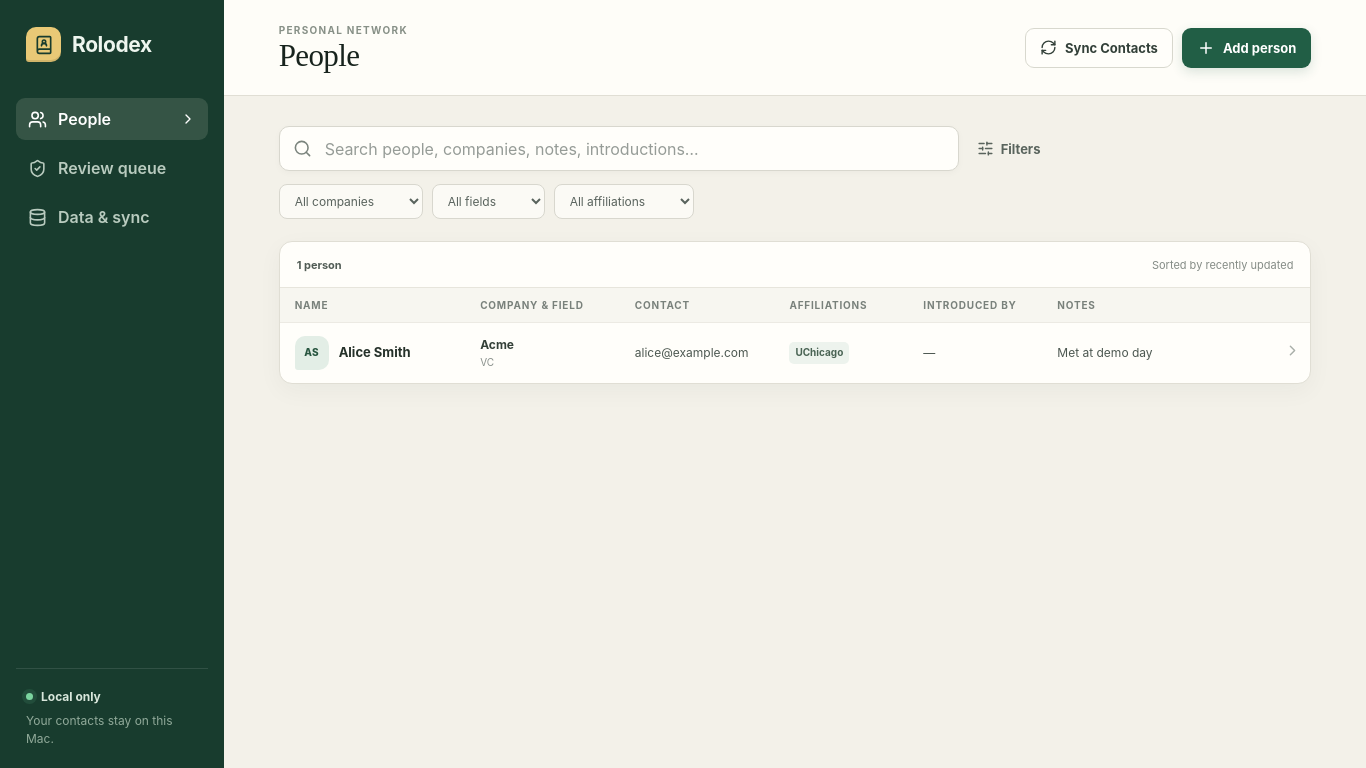
Test: App › renders the people workspace and loaded contacts
Expected: the heading "People" is shown, x1=279 y1=38 x2=359 y2=73
Click the text "Alice Smith": point(375, 353) x1=339 y1=344 x2=411 y2=362
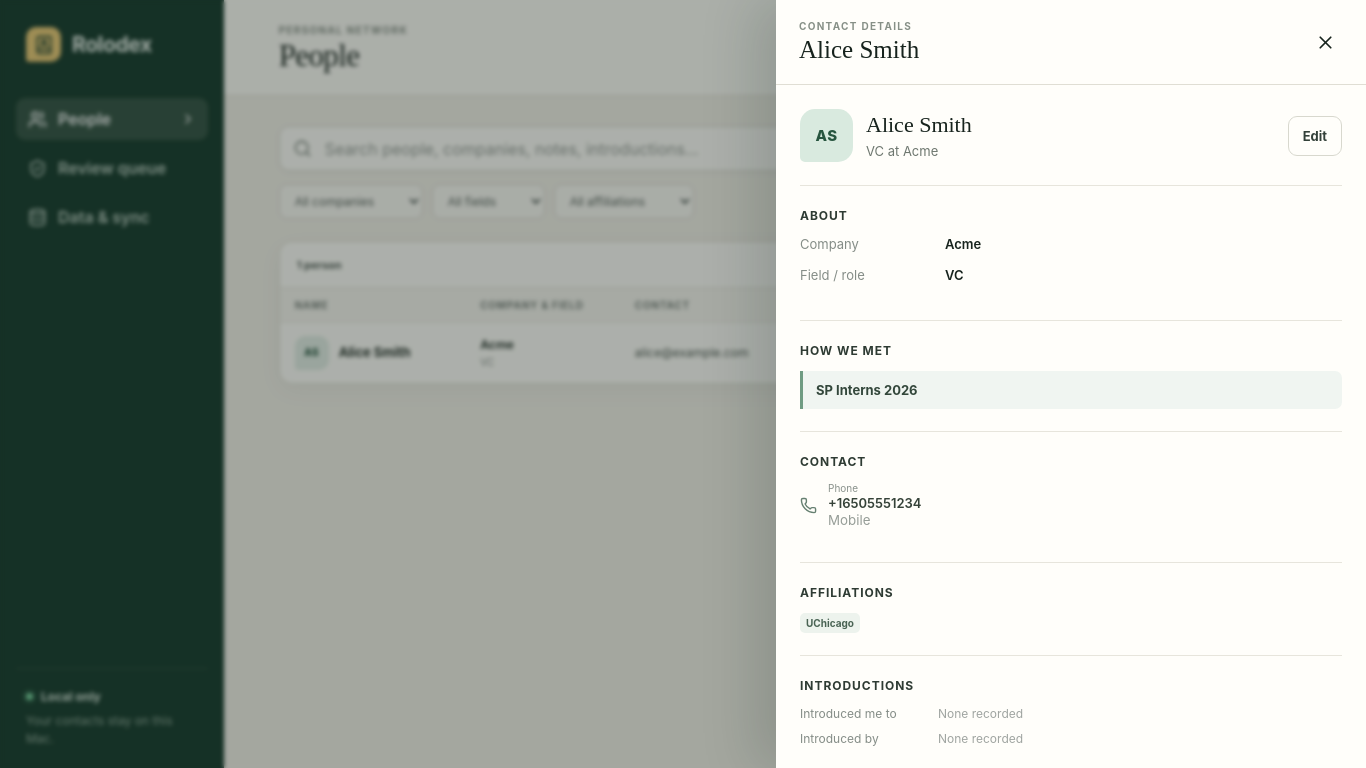
Result: the heading "How we met" is shown at x1=800 y1=343 x2=892 y2=358
Result: the text "SP Interns 2026" is shown at x1=800 y1=371 x2=1342 y2=409
